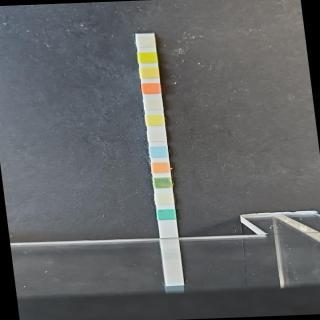mark: (136, 36, 156, 50), (149, 146, 169, 160), (138, 52, 158, 65), (152, 177, 172, 190), (147, 130, 168, 142), (157, 208, 176, 221), (140, 68, 160, 80), (142, 83, 162, 95), (145, 115, 165, 127), (151, 162, 171, 174), (144, 100, 164, 111), (154, 193, 174, 204)
